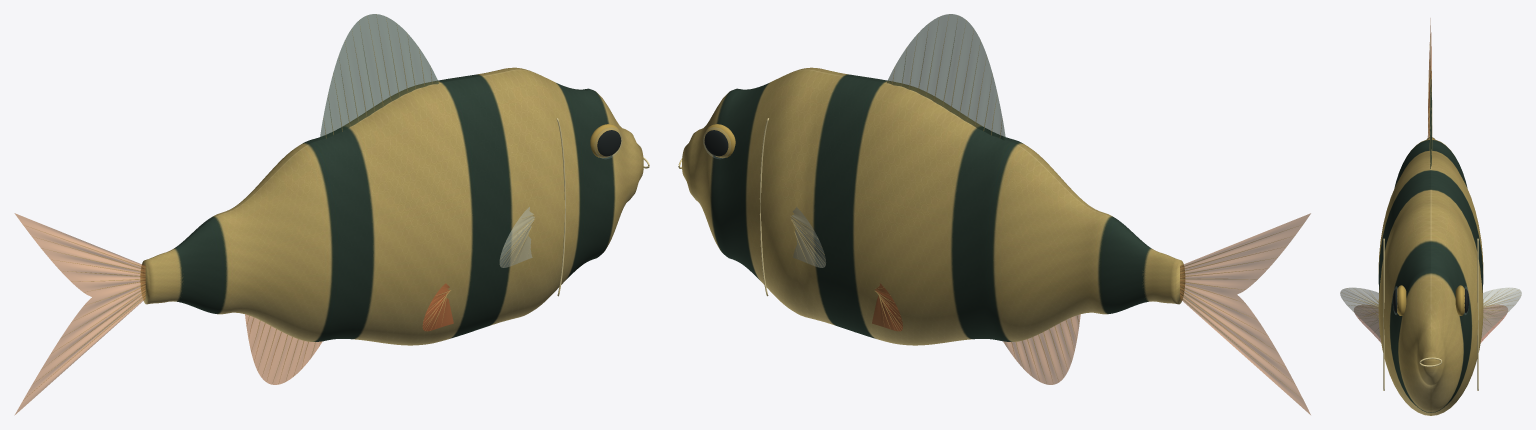
The model's file is tiger-desktop.glb.
The picture shows the model from 3 angles, left to right: view 1: azimuth 30°, elevation 25°; view 2: azimuth 150°, elevation 25°; view 3: azimuth 270°, elevation 25°; orthographic projection. The views are drawn at different scales.
Visible parts, largest first — view 1: skin, tail, dorsal, dorsal-ray, anal, pectoral-left, pelvic-left; view 2: skin, tail, dorsal, dorsal-ray, anal, pectoral-left, pelvic-left; view 3: skin, pectoral-left, pelvic-left, dorsal-ray, operculum, eye-iris--1, tail, dorsal.
Boxes of the visible parts, bbox=[...] form: skin: bbox=[140, 67, 643, 345]; tail: bbox=[14, 213, 145, 414]; dorsal: bbox=[320, 14, 438, 139]; dorsal-ray: bbox=[25, 14, 535, 398]; anal: bbox=[245, 314, 322, 384]; pectoral-left: bbox=[499, 207, 534, 267]; pelvic-left: bbox=[422, 283, 453, 331]; skin: bbox=[682, 67, 1184, 345]; tail: bbox=[1180, 213, 1310, 414]; dorsal: bbox=[887, 14, 1005, 140]; dorsal-ray: bbox=[790, 16, 1302, 398]; anal: bbox=[1003, 314, 1080, 384]; pectoral-left: bbox=[791, 207, 825, 267]; pelvic-left: bbox=[872, 283, 902, 331]; skin: bbox=[1378, 137, 1483, 415]; pectoral-left: bbox=[1340, 287, 1521, 338]; pelvic-left: bbox=[1354, 305, 1507, 342]; dorsal-ray: bbox=[1341, 36, 1519, 327]; operculum: bbox=[1383, 238, 1478, 390]; eye-iris--1: bbox=[1397, 285, 1464, 315]; tail: bbox=[1428, 18, 1431, 137]; dorsal: bbox=[1430, 70, 1431, 168].
Bounding box in the file's own units: 0.6032 × 0.3186 × 0.1766.
Materials: 11 (1 with a texture image).
